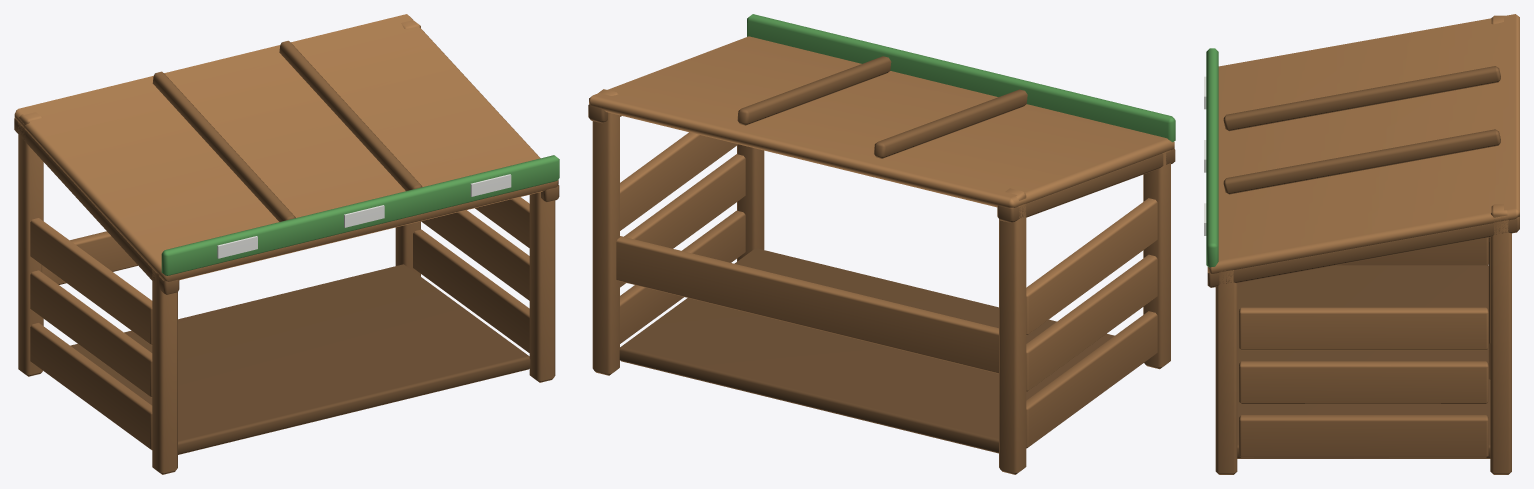
The model's file is ProduceTable_15.glb.
3 renders of one model, left to right at view 1: azimuth 30°, elevation 25°; view 2: azimuth 150°, elevation 25°; view 3: azimuth 270°, elevation 25°, orthographic. The views are drawn at different scales.
Parts seen in each view (by area): view 1: SM_ProduceTable_15; view 2: SM_ProduceTable_15; view 3: SM_ProduceTable_15.
Part boxes in pixels (left/top/right/bottom): SM_ProduceTable_15: left=14, top=14, right=559, bottom=474; SM_ProduceTable_15: left=588, top=14, right=1175, bottom=474; SM_ProduceTable_15: left=1204, top=14, right=1519, bottom=474.
Bounding box in the file's own units: 1.5 × 0.9853 × 1.01.
Materials: 1 (1 with a texture image).
